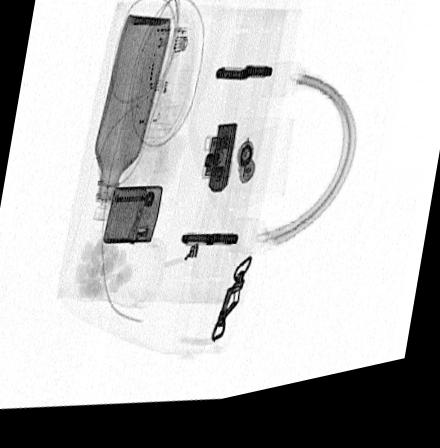Lighter: (102, 189, 163, 250)
